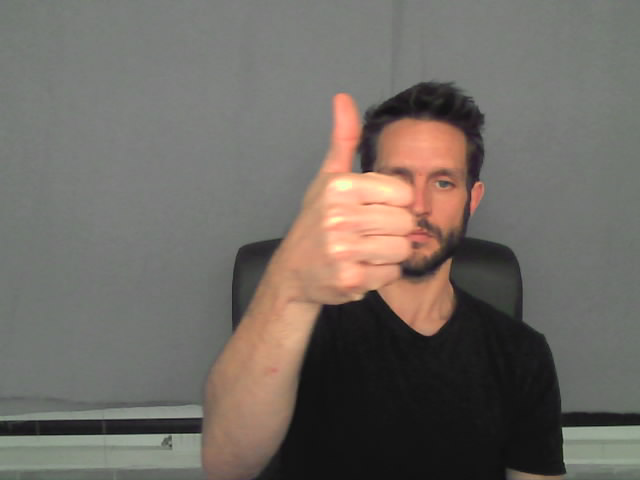thumbsup: (289, 90, 413, 305)
